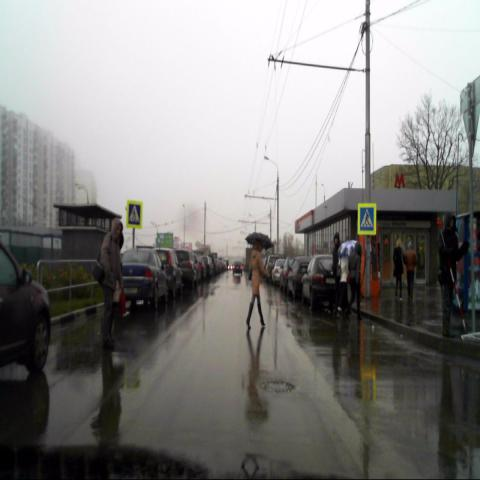5_19_1: (358, 203, 376, 235), (127, 200, 142, 228)
